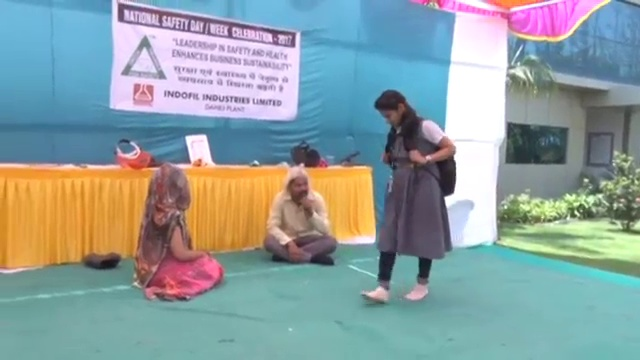helmet_off: (147, 166, 191, 212), (374, 89, 407, 129), (286, 167, 311, 202)
person: (360, 89, 457, 308), (132, 160, 226, 302), (263, 165, 339, 268)
